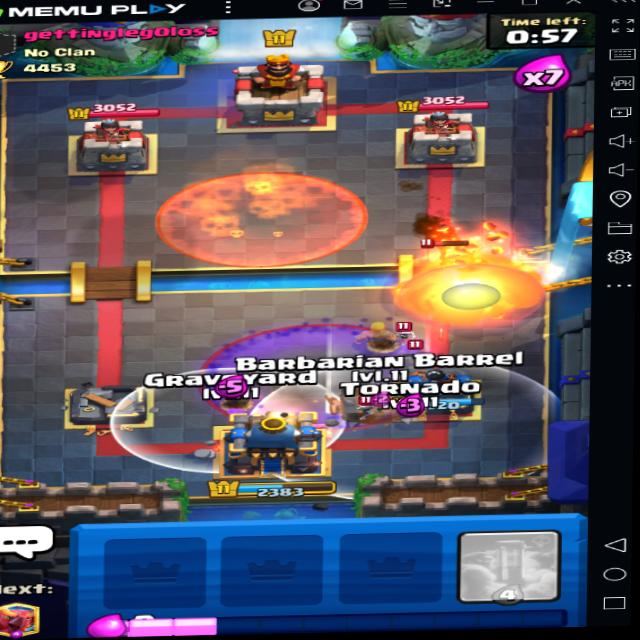Graveyard: (204, 315, 441, 436)
Poison: (152, 165, 367, 274)
Skeleton: (213, 382, 258, 415), (349, 394, 385, 418), (387, 321, 414, 344)
